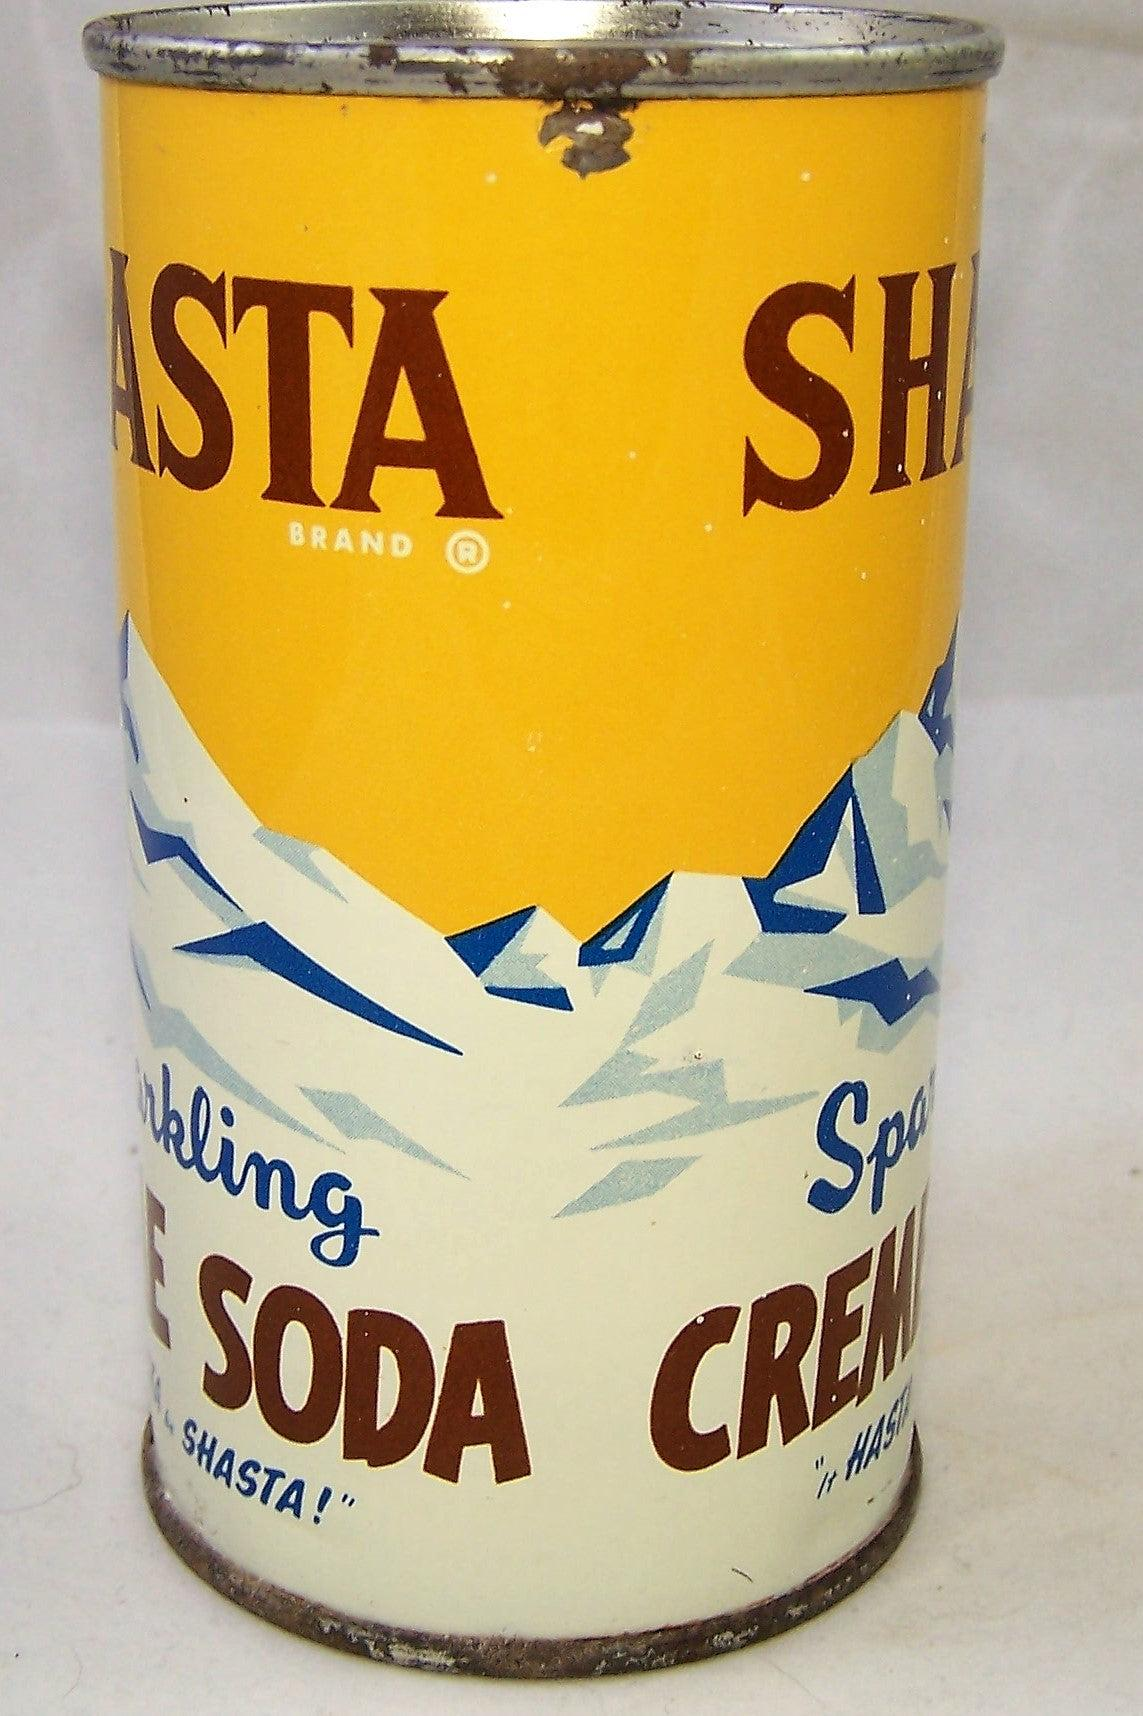can: (83, 7, 1017, 1689)
